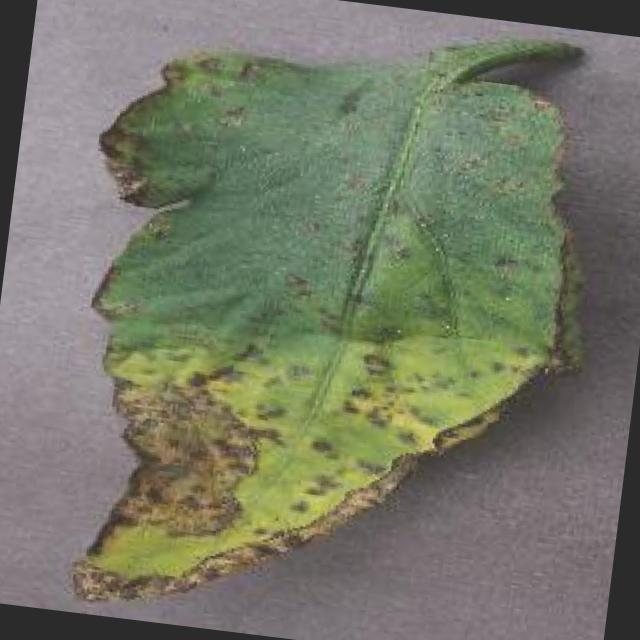bacterial spot: (72, 42, 582, 609)
